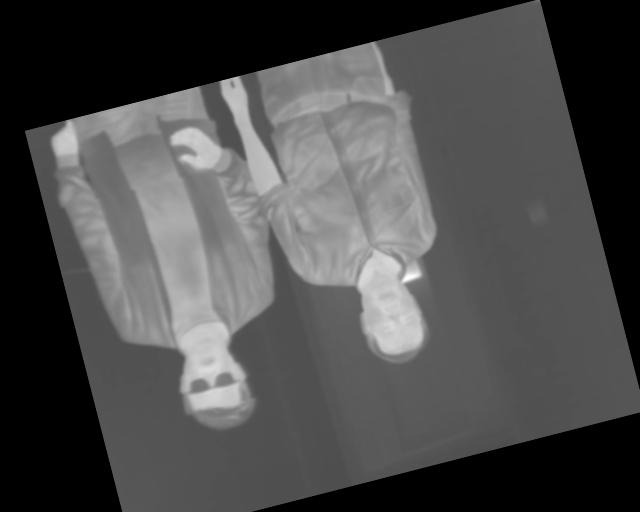face: (167, 330, 261, 440), (347, 264, 435, 373)
